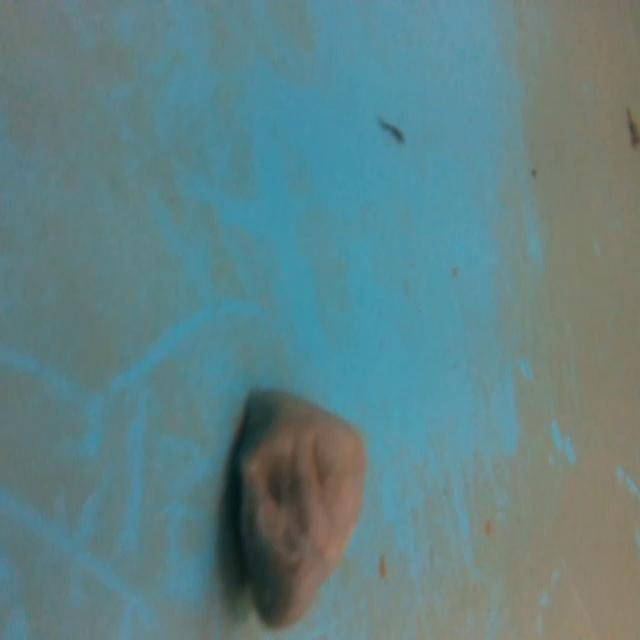rock: (216, 374, 374, 640)
